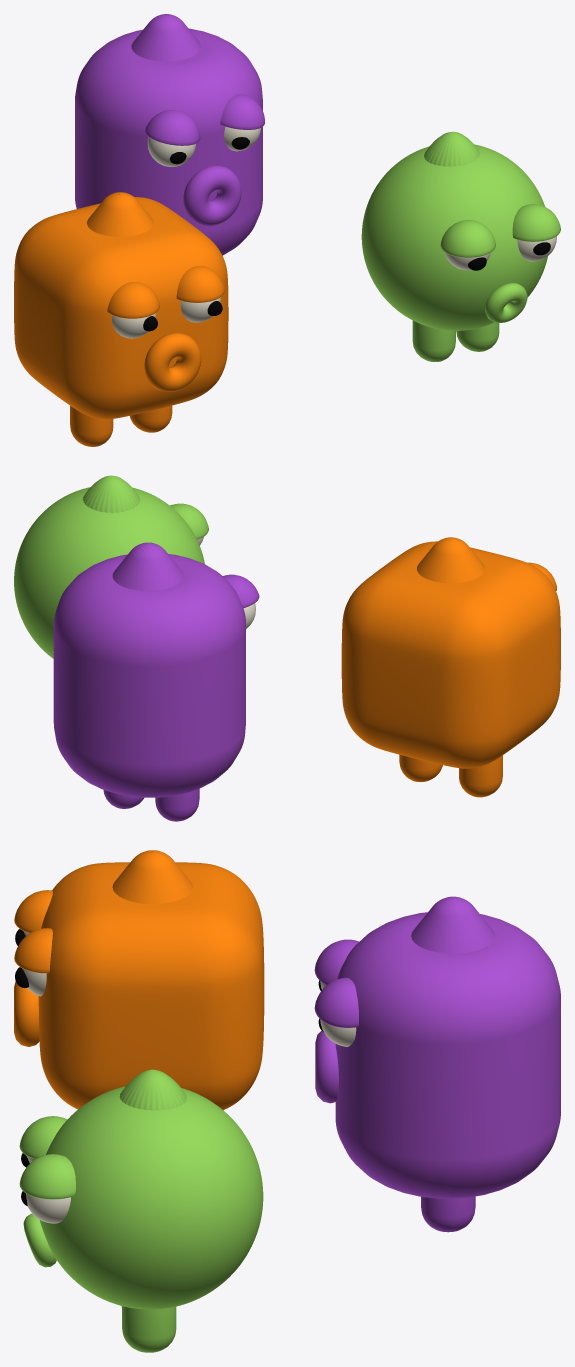
Rendered from threeCuteBrothers.glb.
3 views of the same model, one above another, from view 1: azimuth 30°, elevation 25°; view 2: azimuth 150°, elevation 25°; view 3: azimuth 270°, elevation 25° (orthographic). The views are drawn at different scales.
Parts seen in each view (by area): view 1: threeCuteBrothers; view 2: threeCuteBrothers; view 3: threeCuteBrothers.
Part boxes in pixels (x1,y1,x2,y2): threeCuteBrothers: (14, 14, 560, 446); threeCuteBrothers: (14, 475, 560, 821); threeCuteBrothers: (14, 850, 560, 1352).
Size of the model in its own units: 6.09 by 3.37 by 4.84.
